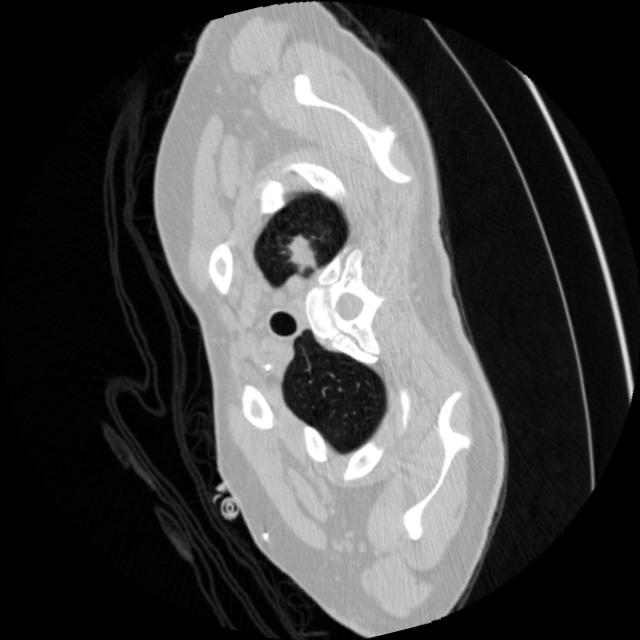nodule: (259, 210, 341, 292)
